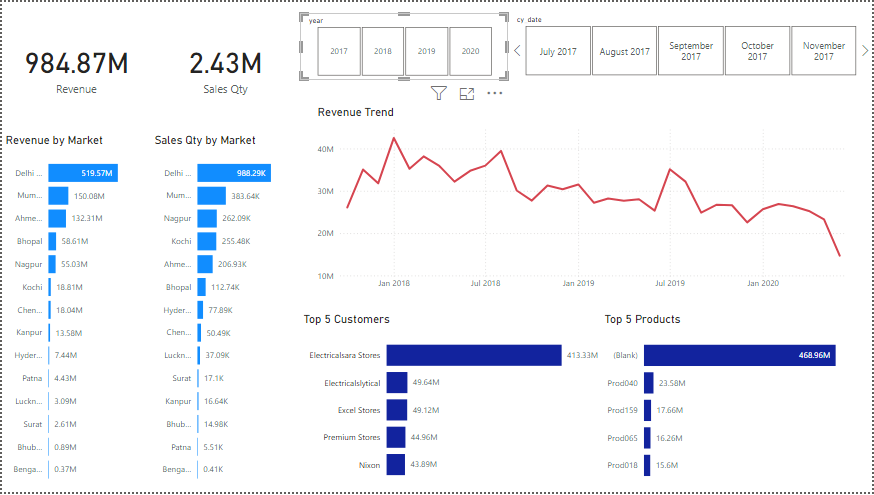

Layout of this report page (visuals, bound fields, positions):
{"tool":"powerbi","page":{"name":"Page 1","canvas":[1280,720],"ordinal":0},"visuals":[{"type":"card","fields":{"Values":["Basemeasures.Revenue"]},"box":[0,0,218.8,192.5],"z":0},{"type":"card","fields":{"Values":["Basemeasures.Sales Qty"]},"box":[218.8,0,218.8,192.5],"z":1000},{"type":"barChart","title":"Revenue by Market","fields":{"Y":["Basemeasures.Revenue"],"Category":["sales markets.markets_name"]},"box":[0,193,218.9,527],"z":2000},{"type":"barChart","title":"Sales Qty by Market","fields":{"Y":["Basemeasures.Sales Qty"],"Category":["sales markets.markets_name"]},"box":[218.9,193,218.9,527],"z":3000},{"type":"slicer","fields":{"Values":["sales date.cy_date"]},"box":[743.7,14.8,536.3,100.4],"z":4000},{"type":"slicer","fields":{"Values":["sales date.year"]},"box":[437.6,16.5,306,98.7],"z":5000},{"type":"barChart","title":"Top 5 Customers","fields":{"Y":["Basemeasures.Revenue"],"Category":["sales customers.custmer_name"]},"box":[437.8,456.5,443.5,262.1],"z":6000},{"type":"barChart","title":"Top 5 Products","fields":{"Y":["Basemeasures.Revenue"],"Category":["sales products.product_code"]},"box":[881.3,456.5,398.9,263.5],"z":7000},{"type":"lineChart","title":"Revenue Trend","fields":{"Y":["Basemeasures.Revenue"],"Category":["sales date.cy_date.Variation.Date Hierarchy.Year","sales date.cy_date.Variation.Date Hierarchy.Quarter","sales date.cy_date.Variation.Date Hierarchy.Month","sales date.cy_date.Variation.Date Hierarchy.Day"]},"box":[459.4,151.2,802.1,280.8],"z":8000}]}

Visuals, with their boxes in screenshot pixels (x1, y1, x2, y2), scaled from the page's 1280x720 canvas onto the 874x495 screenshot:
card - Basemeasures.Revenue: {"left": 0, "top": 0, "right": 149, "bottom": 132}
card - Basemeasures.Sales Qty: {"left": 149, "top": 0, "right": 299, "bottom": 132}
"Revenue by Market" barChart: {"left": 0, "top": 133, "right": 149, "bottom": 494}
"Sales Qty by Market" barChart: {"left": 149, "top": 133, "right": 299, "bottom": 494}
slicer - sales date.cy_date: {"left": 508, "top": 10, "right": 873, "bottom": 79}
slicer - sales date.year: {"left": 299, "top": 11, "right": 508, "bottom": 79}
"Top 5 Customers" barChart: {"left": 299, "top": 314, "right": 602, "bottom": 494}
"Top 5 Products" barChart: {"left": 602, "top": 314, "right": 873, "bottom": 494}
"Revenue Trend" lineChart: {"left": 314, "top": 104, "right": 861, "bottom": 297}
